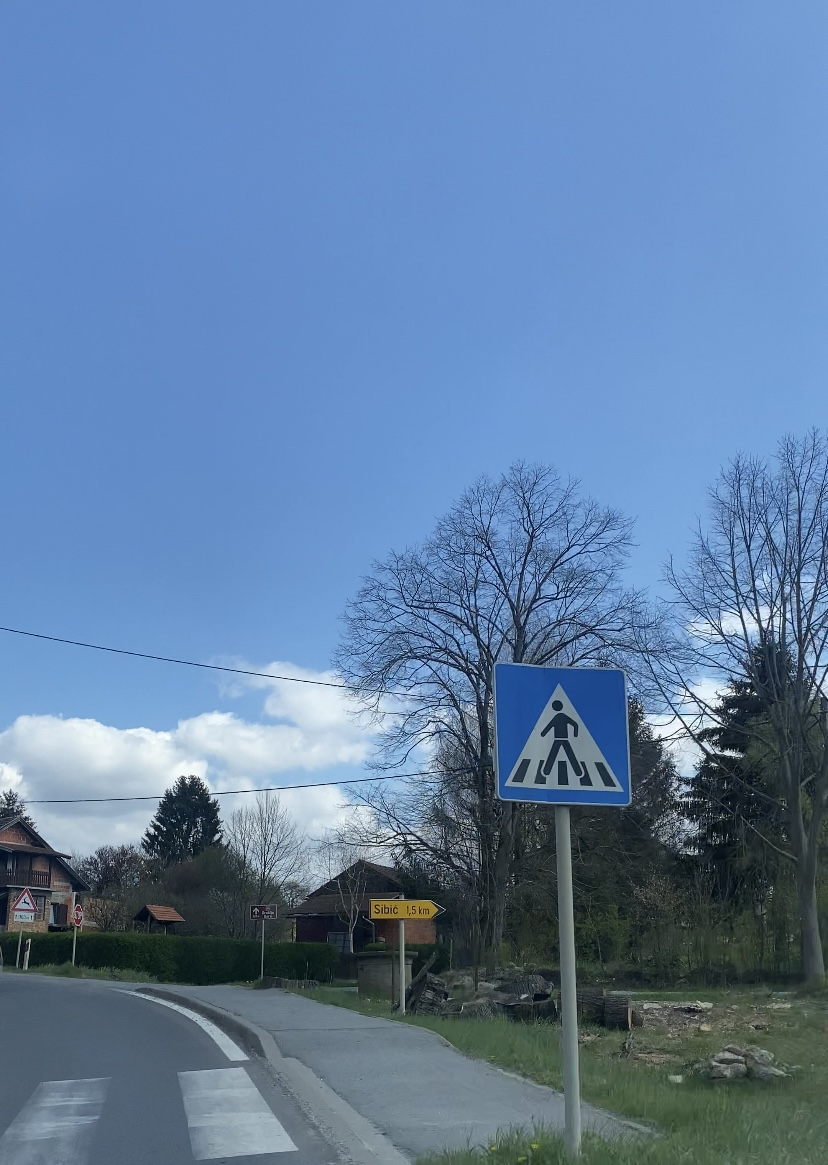Pješački prijelaz: (493, 662, 631, 808)
